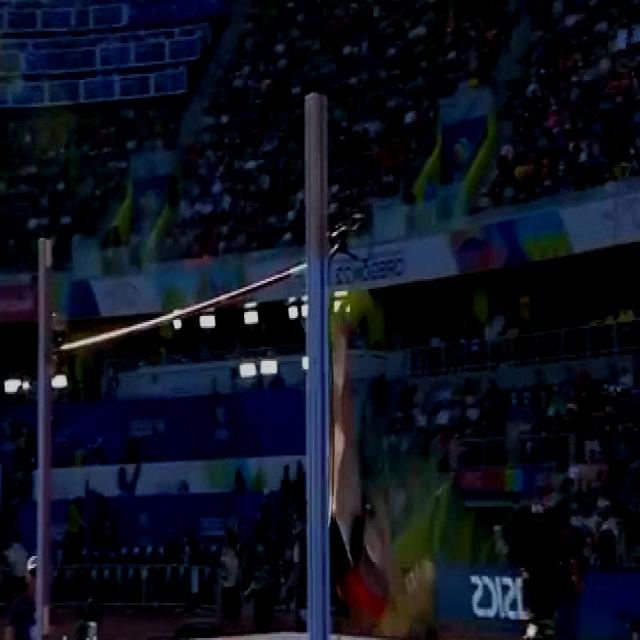land: (332, 291, 436, 640)
